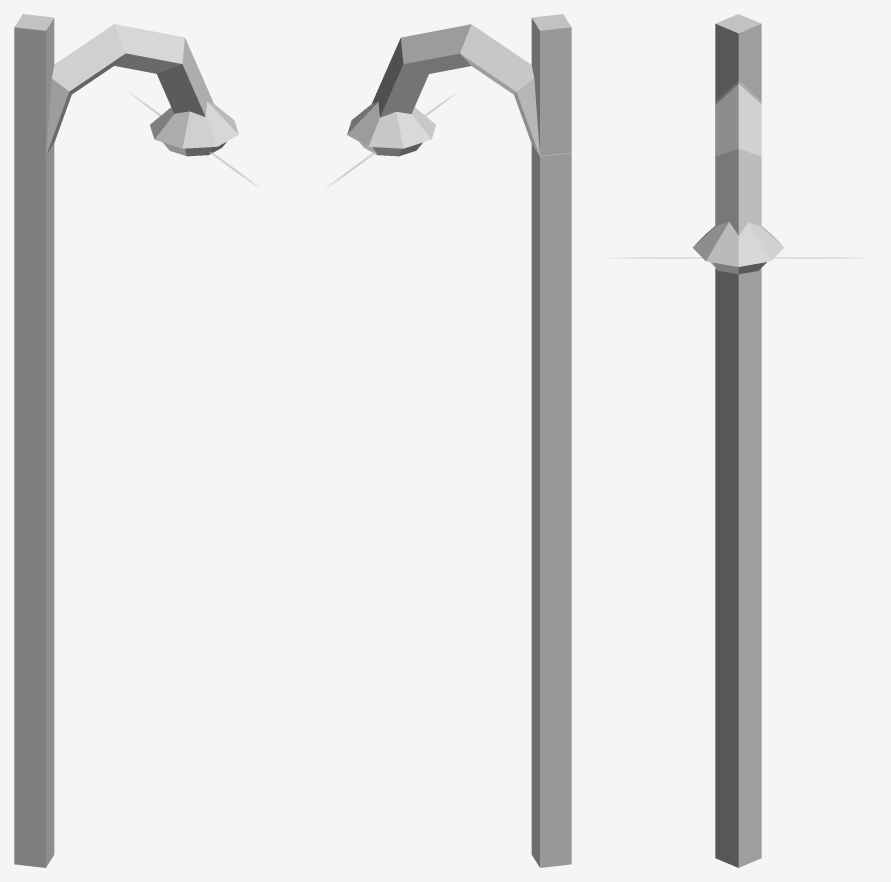
Rendered from ldeco_streetlamp.glb.
3 views of the same model, side by side, from view 1: azimuth 30°, elevation 25°; view 2: azimuth 150°, elevation 25°; view 3: azimuth 270°, elevation 25° (orthographic).
Parts seen in each view (by area): view 1: LampPost; view 2: LampPost; view 3: LampPost.
Boxes of the visible parts, bbox=[...] form: LampPost: bbox=[14, 14, 238, 867]; LampPost: bbox=[347, 14, 571, 867]; LampPost: bbox=[692, 14, 784, 867].
Bounding box in the file's own units: 2.75 × 10 × 3.
Materials: 3 (1 with a texture image).
